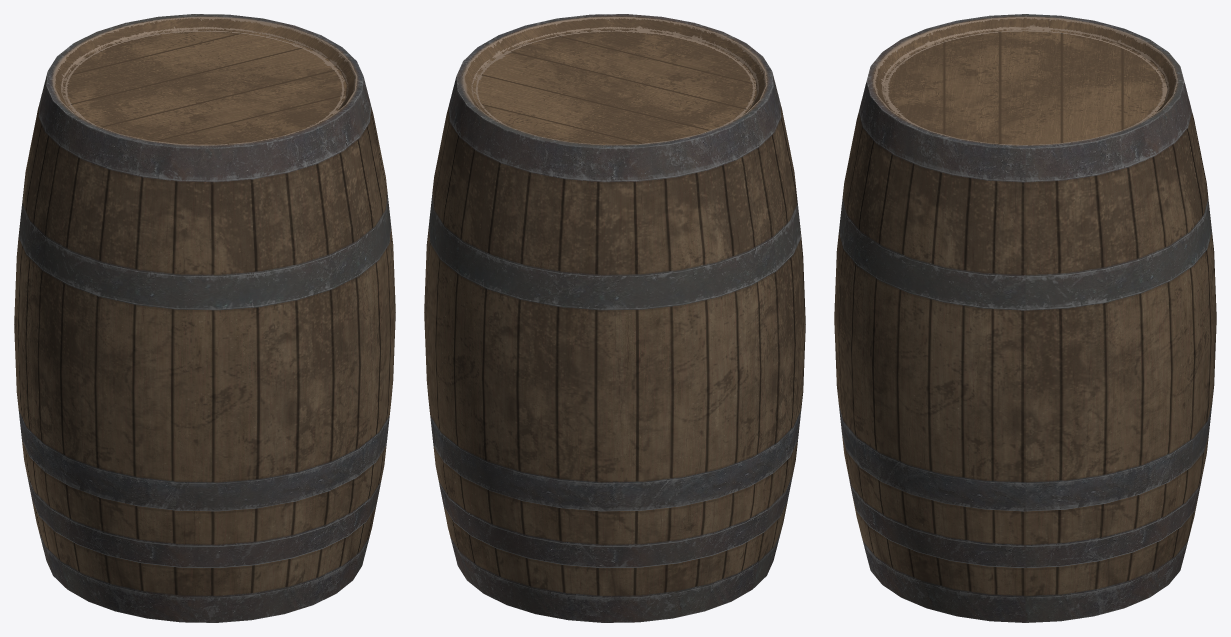
Rendered from barrel.fbx.
The picture shows the model from 3 angles, left to right: view 1: azimuth 30°, elevation 25°; view 2: azimuth 150°, elevation 25°; view 3: azimuth 270°, elevation 25°; orthographic projection.
Parts seen in each view (by area): view 1: barrel; view 2: barrel; view 3: barrel.
Boxes of the visible parts, bbox=[...] form: barrel: bbox=[14, 14, 395, 622]; barrel: bbox=[424, 14, 805, 622]; barrel: bbox=[834, 14, 1216, 622].
Bounding box in the file's own units: 86.51 × 118 × 86.51.
